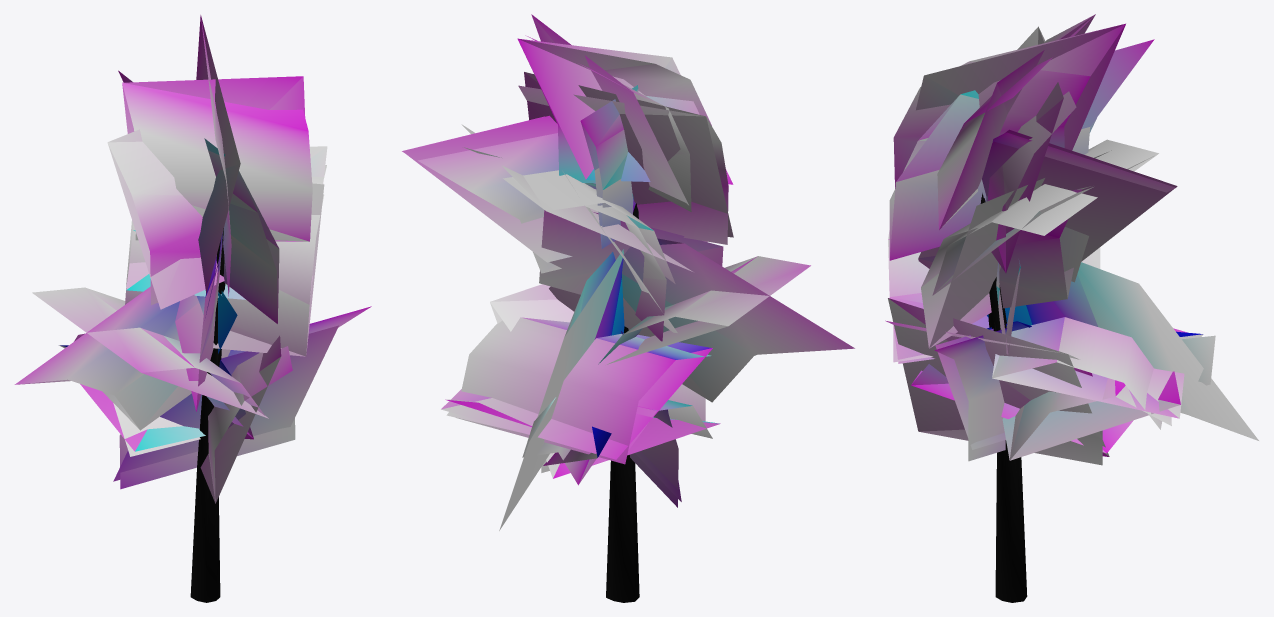
The model's file is ekasia_tumula_01_small_a.dae.
3 views of the same model, side by side, from view 1: azimuth 30°, elevation 25°; view 2: azimuth 150°, elevation 25°; view 3: azimuth 270°, elevation 25° (orthographic). The views are drawn at different scales.
Visible parts, largest first — view 1: ekasia160, ekasia80; view 2: ekasia80, ekasia160; view 3: ekasia160, ekasia80.
Part boxes in pixels (x1,y1,x2,y2): ekasia160: [14, 17, 371, 600]; ekasia80: [18, 15, 338, 602]; ekasia80: [402, 14, 854, 601]; ekasia160: [402, 35, 810, 602]; ekasia160: [885, 14, 1258, 602]; ekasia80: [888, 15, 1230, 602].
Size of what is drawn, in the model's own units: 9.27 by 8 by 14.04.
